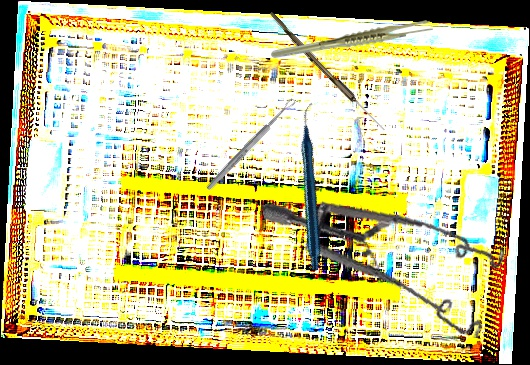Handpiece: (234, 101, 393, 273)
Speculum: (262, 176, 514, 362)
Surgical Spoon: (266, 11, 388, 133), (204, 96, 298, 193)
Tissue Forceps: (271, 20, 433, 59)
